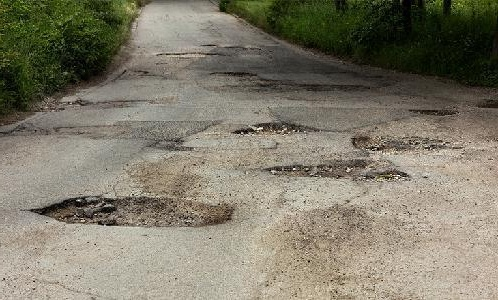pothole: (28, 192, 237, 229), (260, 156, 411, 184), (351, 133, 449, 154), (231, 120, 320, 135), (146, 137, 195, 155), (409, 105, 460, 116), (154, 50, 223, 57), (207, 69, 258, 78), (474, 98, 497, 108)
